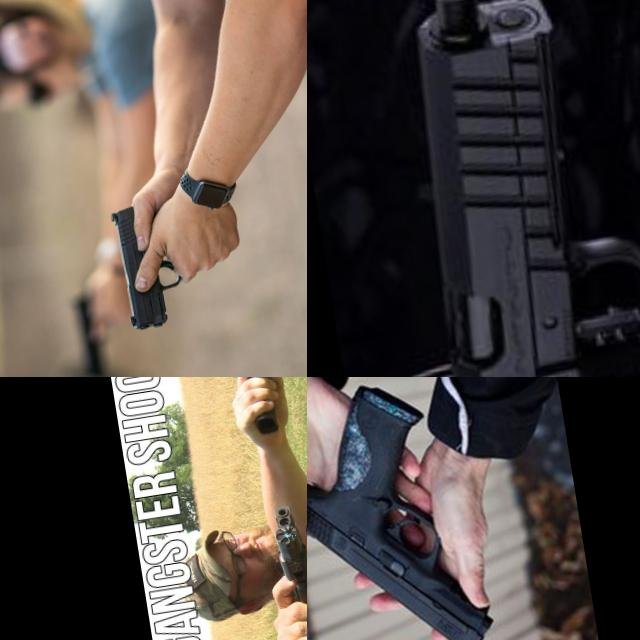handgun: (320, 0, 640, 377), (307, 377, 508, 640), (106, 192, 191, 336), (266, 497, 307, 612), (228, 377, 272, 430)
